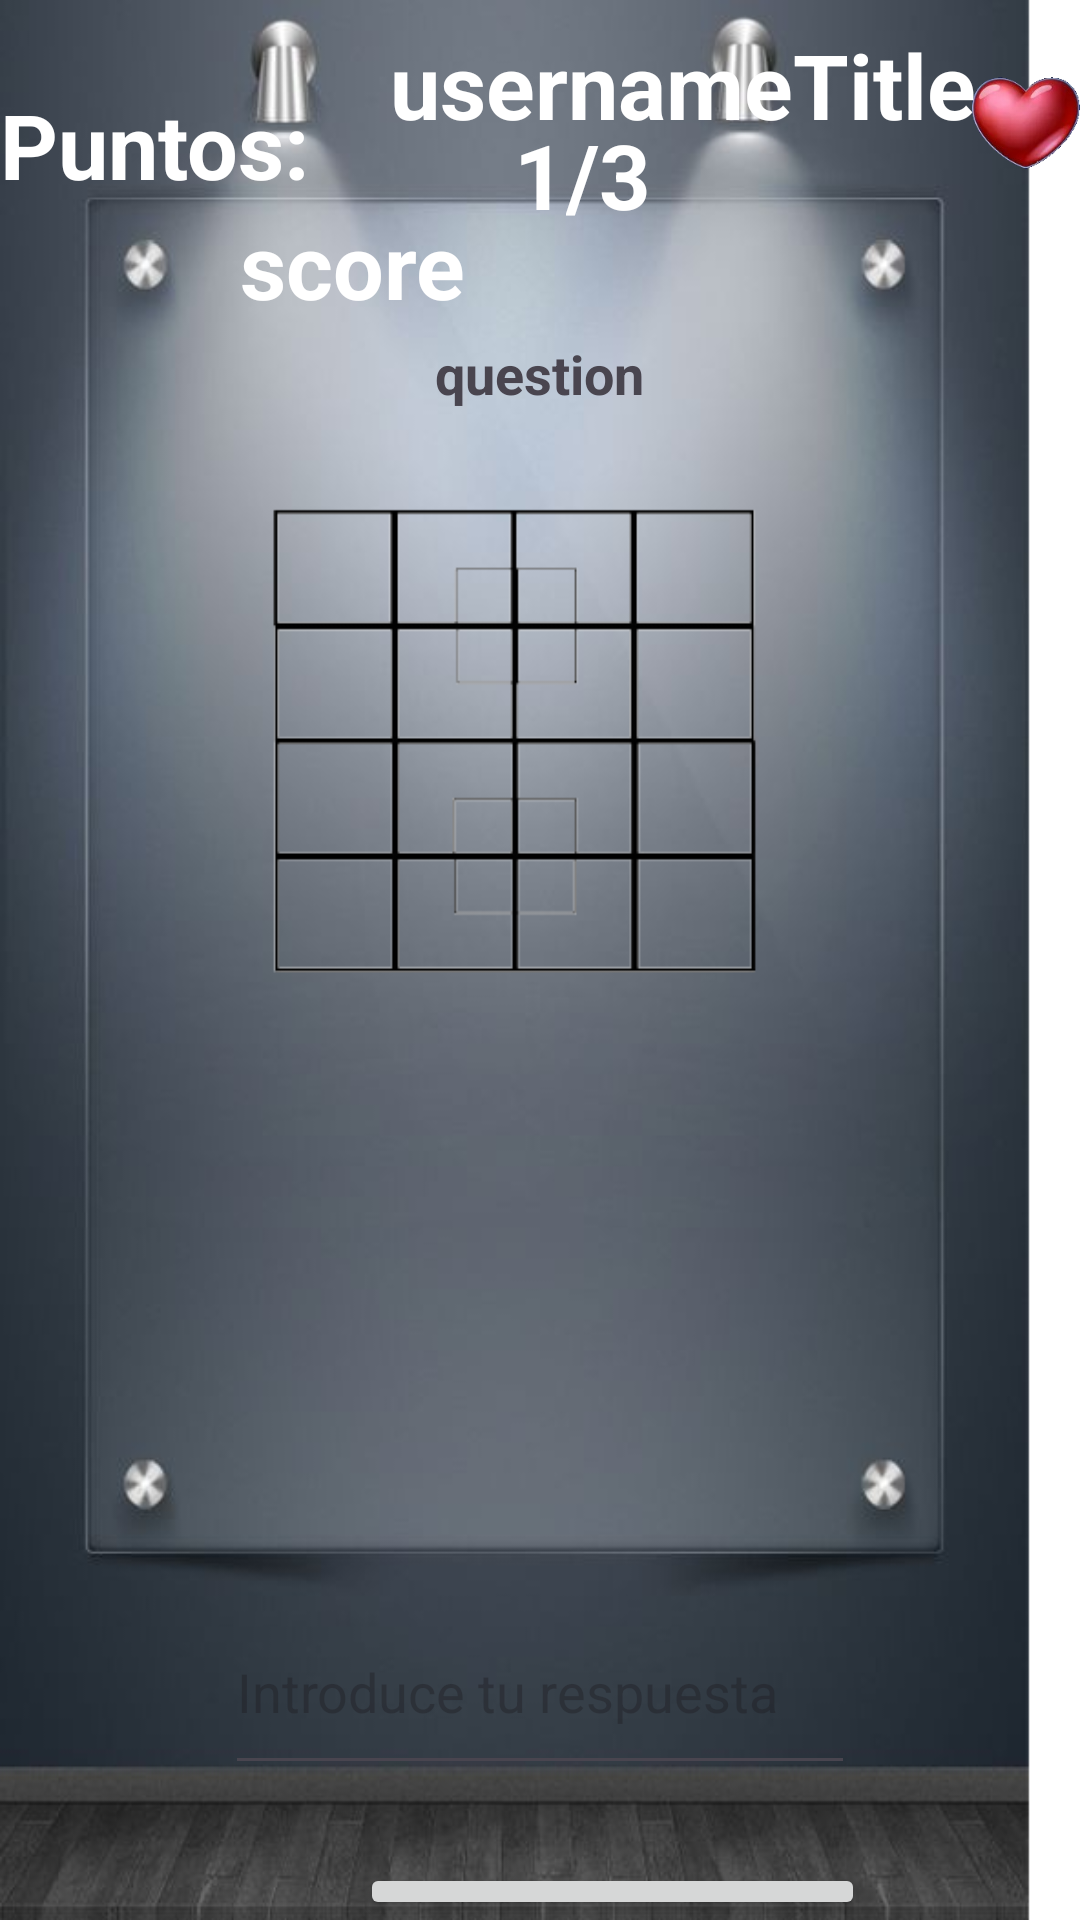

Point at icon controls on the screen. Image size 1080×1920, points as (x=x, y=y).
life: (x=1026, y=123)
